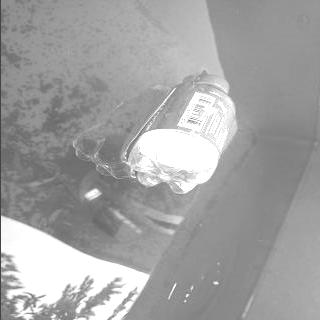bottle: (126, 74, 237, 194)
